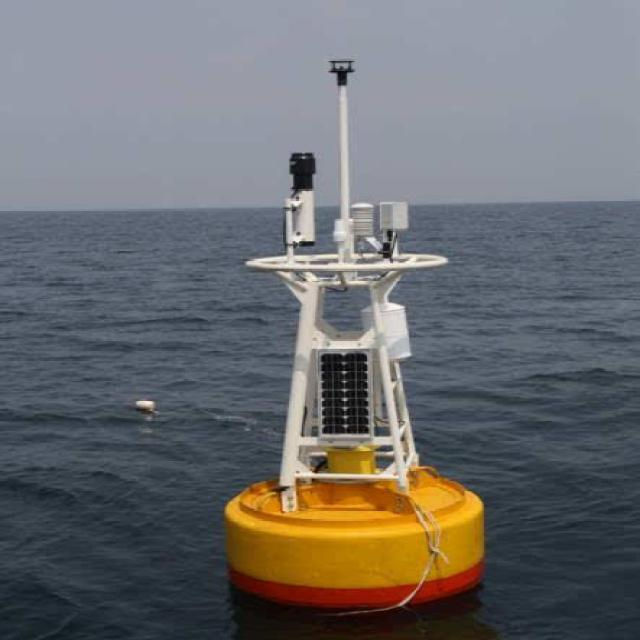buoy: (203, 51, 497, 610)
